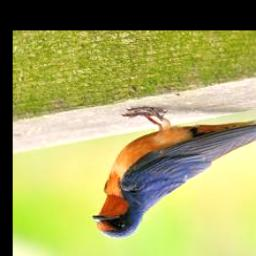Swallow: (86, 99, 256, 243)
